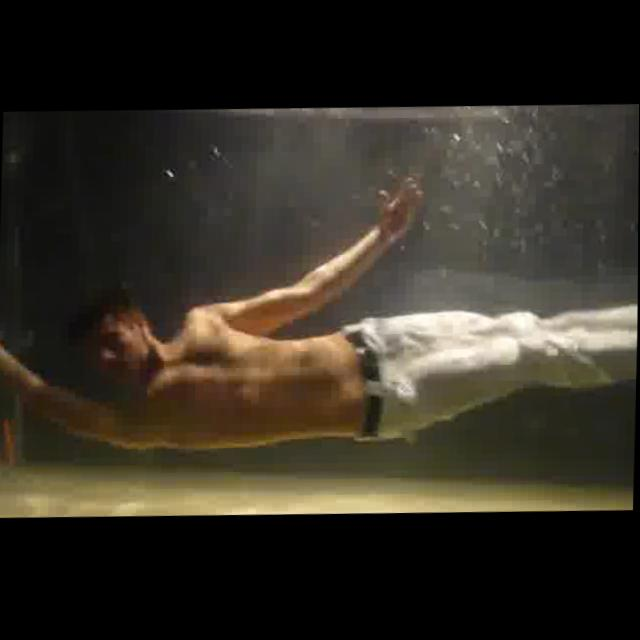human: (0, 169, 639, 465)
